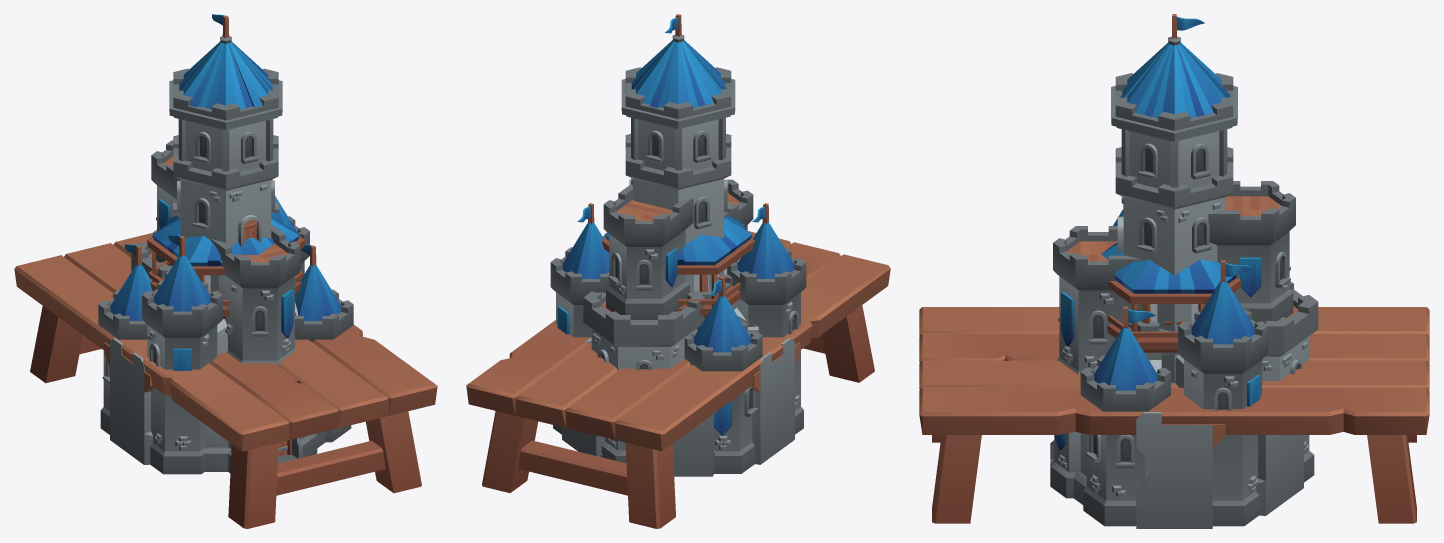
File: civic.glb
3 renders of one model, left to right at view 1: azimuth 30°, elevation 25°; view 2: azimuth 150°, elevation 25°; view 3: azimuth 270°, elevation 25°, orthographic. The views are drawn at different scales.
Parts seen in each view (by area): view 1: building_castle_blue, table_long, building_tower_B_top_blue, wall_corner_B_inside; view 2: building_castle_blue, table_long, wall_corner_B_inside, building_tower_B_top_blue, wall_corner_A_outside, wall_corner_B_outside; view 3: building_castle_blue, table_long, wall_straight, building_tower_B_top_blue, wall_straight_gate, wall_corner_A_inside, wall_corner_A_outside, wall_corner_A_gate.
Part boxes in pixels (x1=…): building_castle_blue: x1=98, y1=14, x2=353, y2=474; table_long: x1=14, y1=233, x2=437, y2=528; building_tower_B_top_blue: x1=147, y1=215, x2=304, y2=318; wall_corner_B_inside: x1=110, y1=338, x2=150, y2=464; building_castle_blue: x1=550, y1=14, x2=806, y2=473; table_long: x1=466, y1=231, x2=890, y2=528; wall_corner_B_inside: x1=672, y1=342, x2=800, y2=476; building_tower_B_top_blue: x1=602, y1=215, x2=754, y2=318; wall_corner_A_outside: x1=571, y1=338, x2=794, y2=455; wall_corner_B_outside: x1=673, y1=327, x2=790, y2=476; building_castle_blue: x1=1050, y1=14, x2=1318, y2=526; table_long: x1=919, y1=307, x2=1429, y2=523; wall_straight: x1=1136, y1=412, x2=1225, y2=528; building_tower_B_top_blue: x1=1101, y1=242, x2=1241, y2=352; wall_straight_gate: x1=1136, y1=352, x2=1225, y2=528; wall_corner_A_inside: x1=1258, y1=435, x2=1293, y2=515; wall_corner_A_outside: x1=1262, y1=386, x2=1303, y2=503; wall_corner_A_gate: x1=1175, y1=354, x2=1288, y2=515.
Bounding box in the file's own units: 2 × 4.23 × 4.
3 materials, 3 textured.
